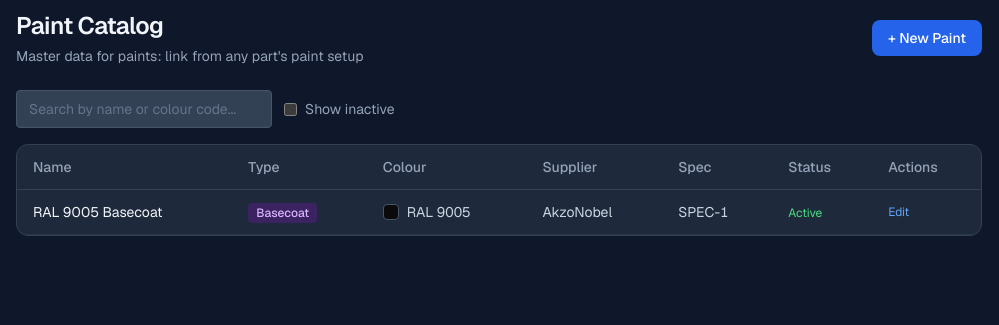
Test: PaintsPage › expanding a row loads used-in and shows part numbers
The width and height of the screenshot is (999, 325).
Click the button "RAL 9005 Basecoat". click: (98, 212)
box: [33,202,162,222]
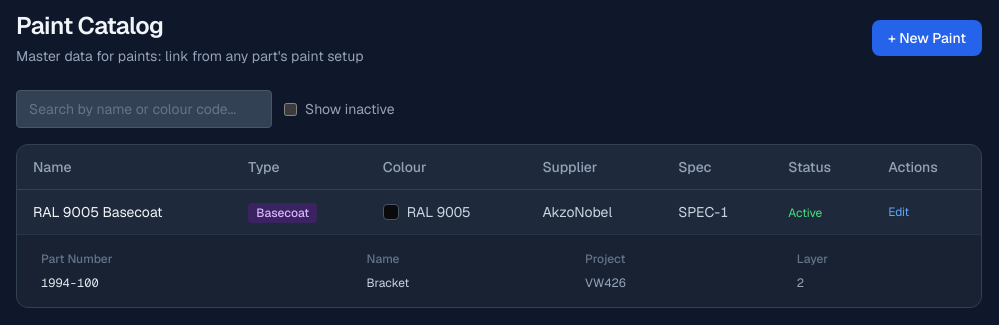
Expected: the text "1994-100" is shown, [33,271,359,295]
